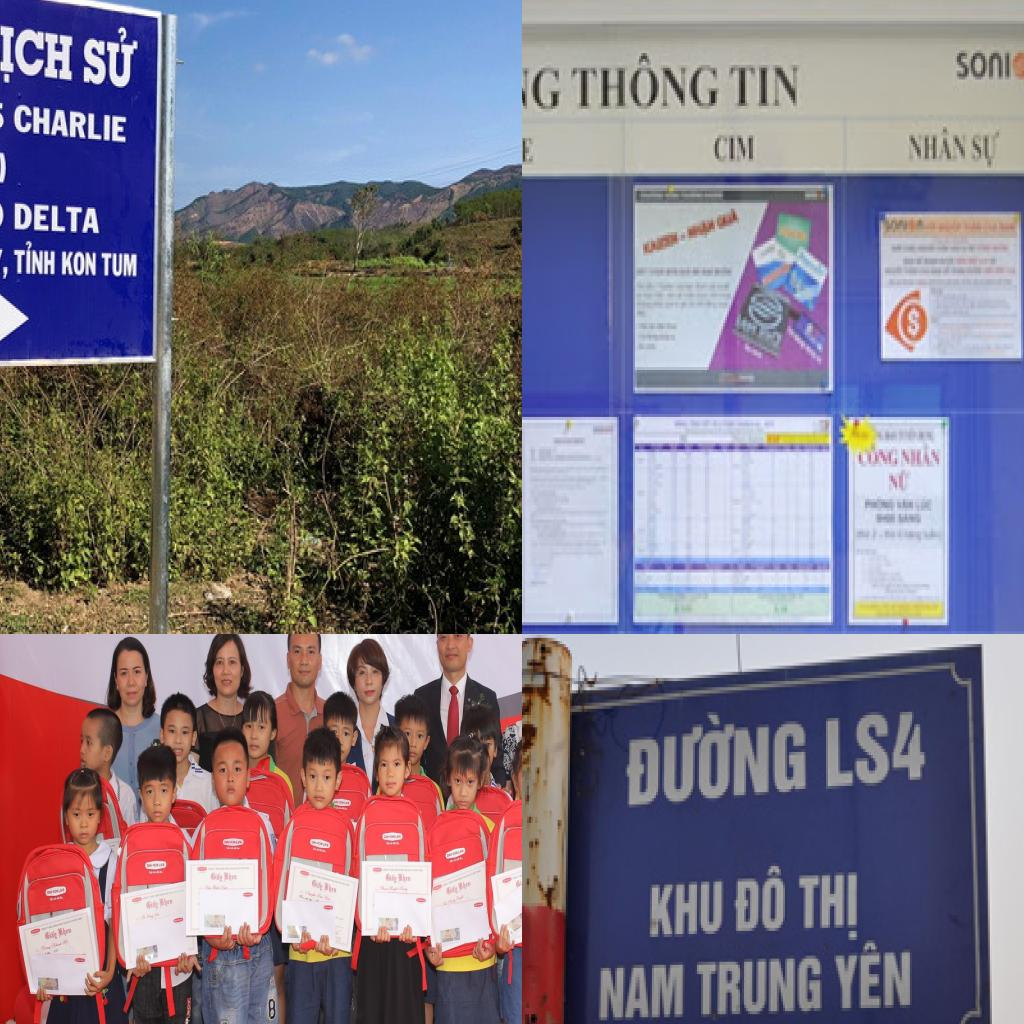text: (621, 696, 810, 810), (820, 700, 930, 798), (693, 952, 824, 1024), (569, 50, 721, 112), (592, 958, 688, 1024), (834, 940, 918, 1014), (11, 98, 130, 149), (0, 18, 77, 93), (797, 866, 863, 950), (646, 878, 728, 944), (80, 18, 143, 98), (730, 863, 787, 943), (11, 195, 103, 240), (727, 65, 803, 115), (522, 53, 565, 117), (907, 126, 969, 168), (953, 50, 1024, 85), (12, 238, 57, 279), (713, 132, 759, 168), (971, 130, 1005, 170), (901, 443, 943, 473), (857, 446, 901, 473), (100, 250, 140, 279), (60, 248, 96, 279), (905, 302, 923, 340), (887, 470, 915, 493), (522, 135, 537, 170), (0, 144, 10, 188), (42, 926, 59, 942), (323, 882, 340, 898), (58, 923, 73, 939), (311, 877, 325, 894), (444, 882, 459, 897), (159, 894, 174, 908), (144, 898, 160, 911), (210, 871, 226, 883), (457, 878, 473, 890), (224, 873, 239, 885), (398, 873, 412, 885), (384, 874, 398, 883)
